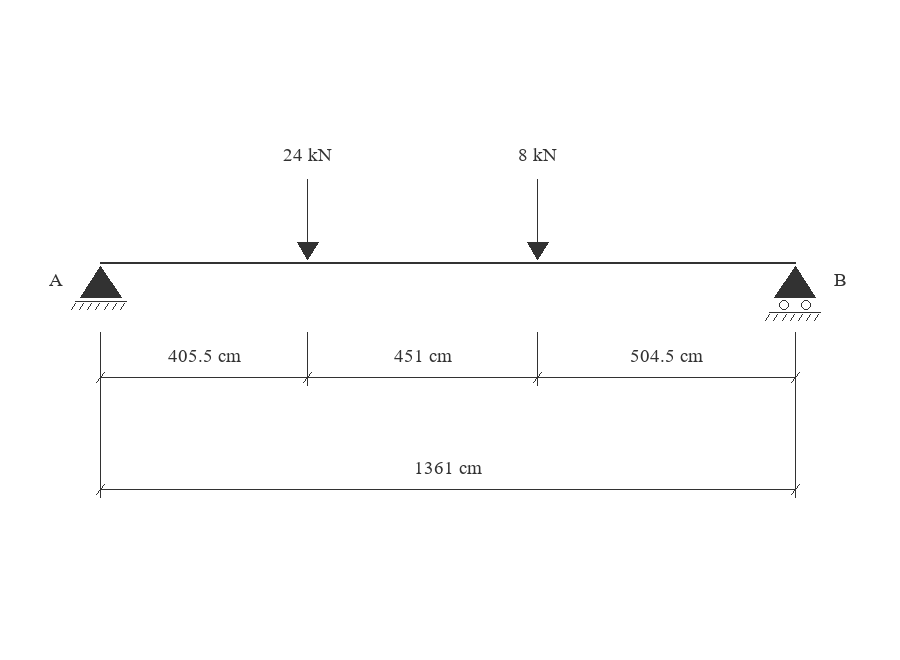pin_support: (71, 266, 127, 310)
point_load: (297, 179, 319, 260), (527, 179, 549, 260)
roller_support: (765, 266, 821, 321)
